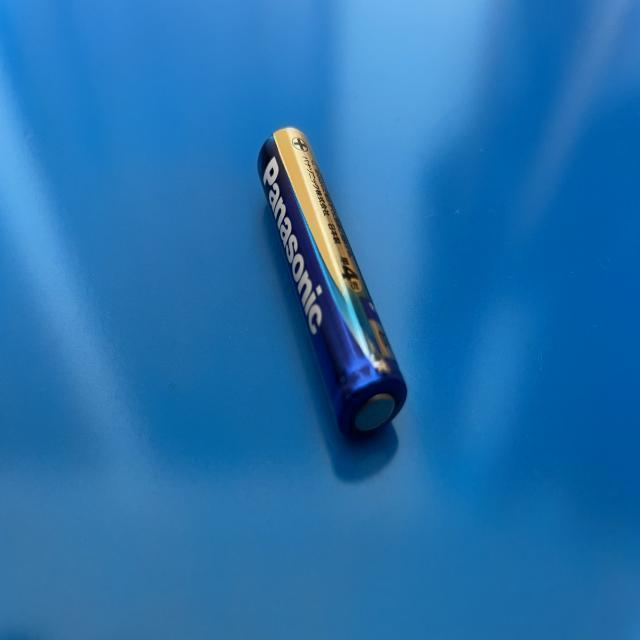AAA: (255, 124, 408, 444)
